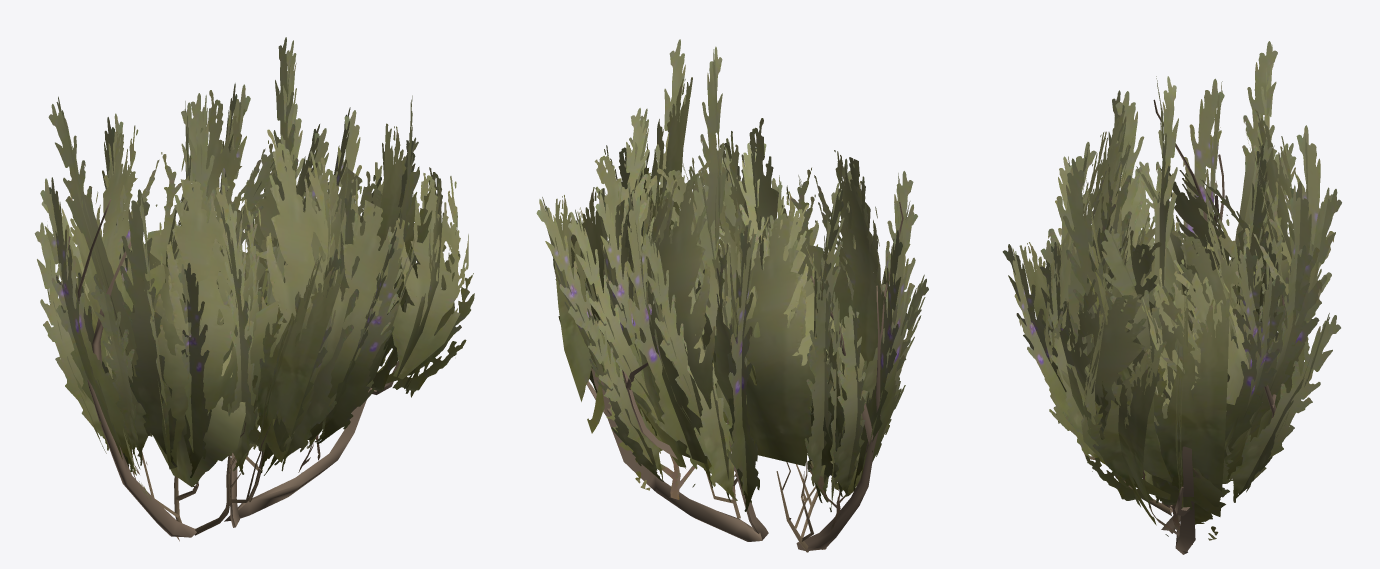
3 renders of one model, left to right at view 1: azimuth 30°, elevation 25°; view 2: azimuth 150°, elevation 25°; view 3: azimuth 270°, elevation 25°, orthographic.
Parts seen in each view (by area): view 1: body0_model0_lod0_mesh0; view 2: body0_model0_lod0_mesh0; view 3: body0_model0_lod0_mesh0.
Part boxes in pixels (bbox=[...]): body0_model0_lod0_mesh0: bbox=[34, 37, 474, 541]; body0_model0_lod0_mesh0: bbox=[536, 39, 928, 552]; body0_model0_lod0_mesh0: bbox=[1002, 41, 1341, 554].
Size of the model in its own units: 93.34 by 109 by 76.01.
1 material, 1 textured.
